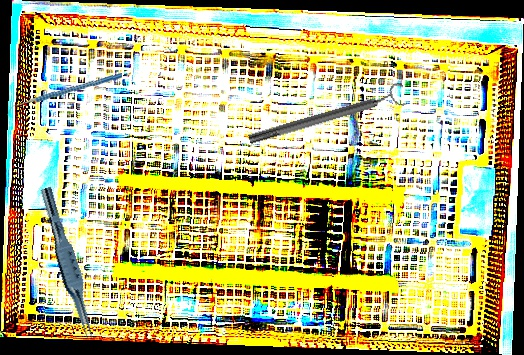Chopper: (6, 67, 123, 122)
Fixation Ring: (245, 81, 409, 151)
Tissue Forceps: (31, 186, 103, 341)
